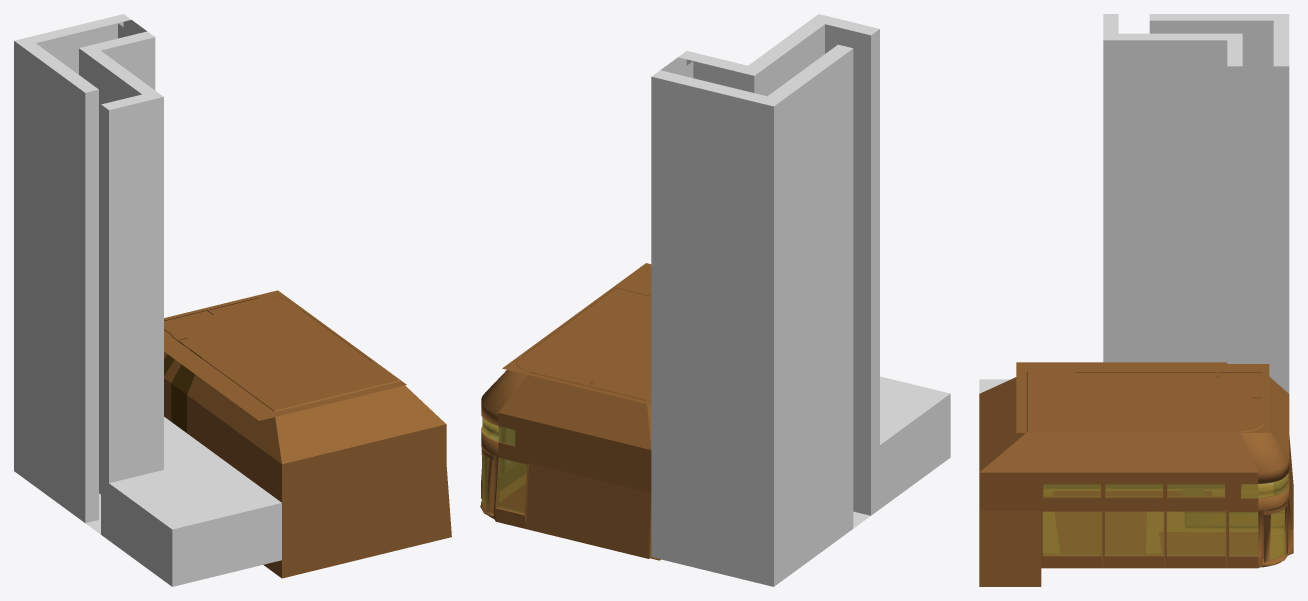
Rendered from StartingRoom_3.fbx.
3 renders of one model, left to right at view 1: azimuth 30°, elevation 25°; view 2: azimuth 150°, elevation 25°; view 3: azimuth 270°, elevation 25°, orthographic. The views are drawn at different scales.
Parts seen in each view (by area): view 1: Plane.854; view 2: Plane.854; view 3: Plane.854.
Part boxes in pixels (<box>): Plane.854: <box>14,14,451,586</box>; Plane.854: <box>480,14,950,586</box>; Plane.854: <box>979,14,1293,586</box>.
Size of the model in its own units: 1020 by 1564 by 1015.
